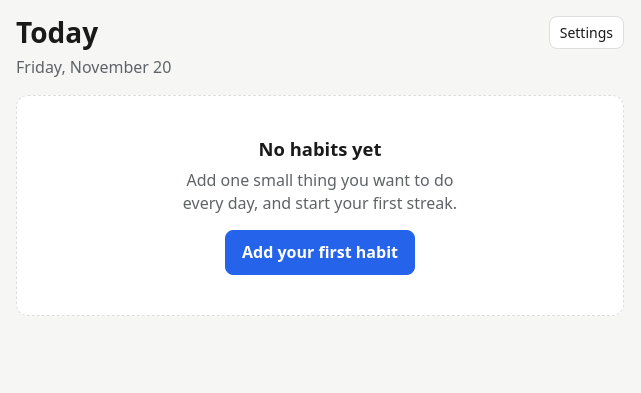
Test: Today page › adds a first habit from the empty state
Click the button "Add your first habit" at (320, 252), box [225,230,415,274]
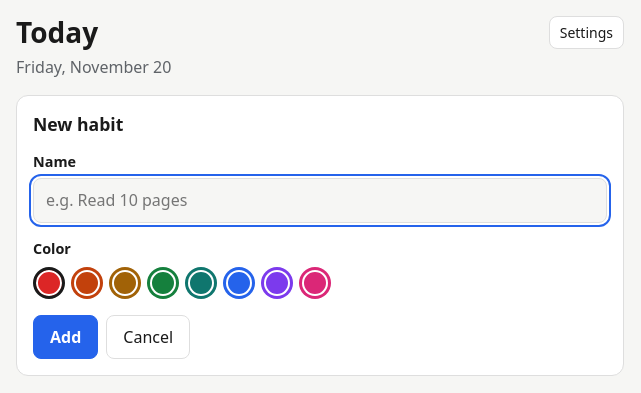
Type "Read 10 pages" into the field labelled "Name" at (320, 201), box [33,178,607,223]
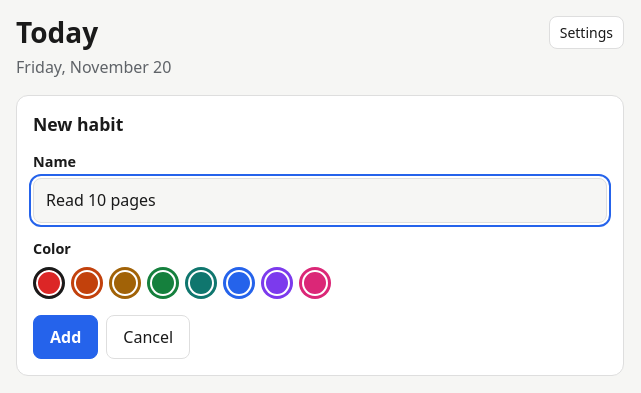
Click the button "Add" at (66, 337), box [33,315,98,359]
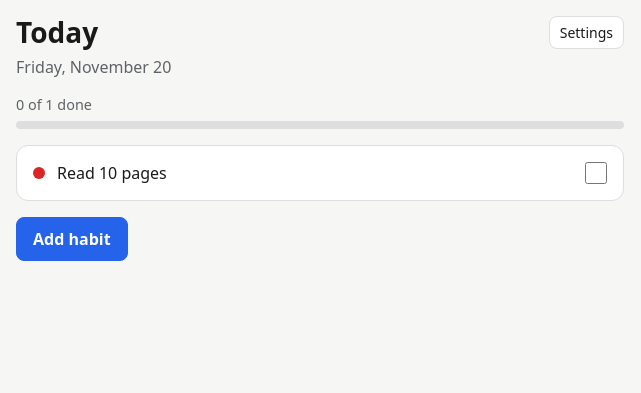
Expected: the text "No habits yet" is not shown
Expected: the checkbox named "Read 10 pages done today" is not checked, [585,162,607,184]
